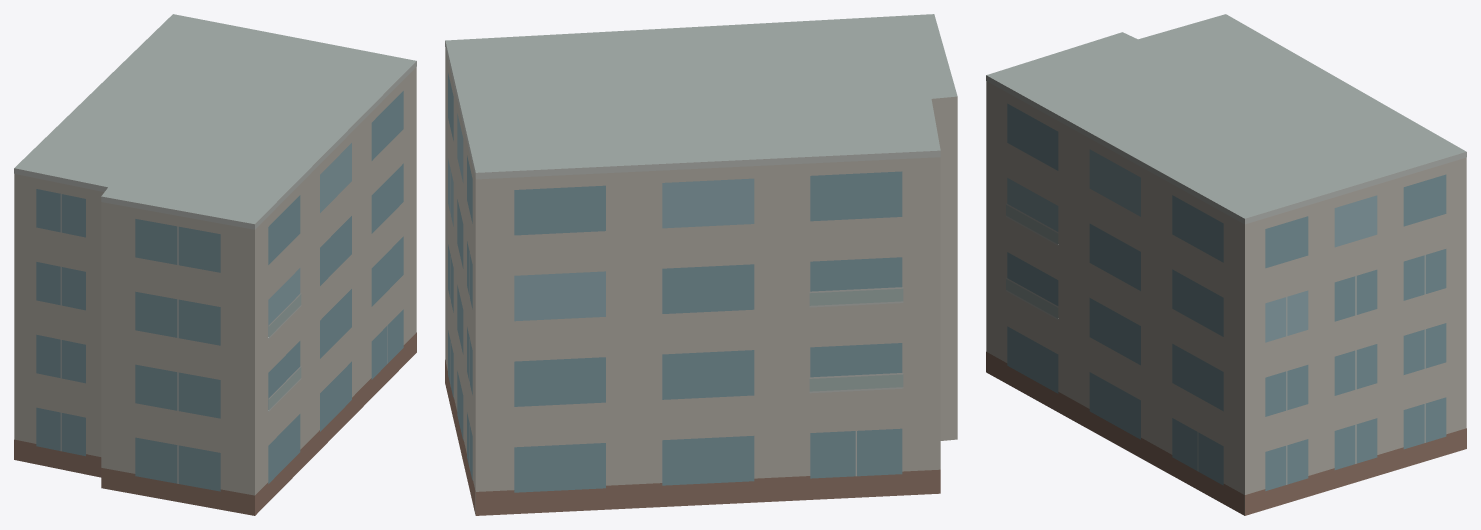
The model's file is survey-upis-32657177.glb.
3 renders of one model, left to right at view 1: azimuth 30°, elevation 25°; view 2: azimuth 150°, elevation 25°; view 3: azimuth 270°, elevation 25°, orthographic. The views are drawn at different scales.
Visible parts, largest first — view 1: survey-upis-32657177.tmp; view 2: survey-upis-32657177.tmp; view 3: survey-upis-32657177.tmp.
Part boxes in pixels (<box>): survey-upis-32657177.tmp: <box>14,14,416,515</box>; survey-upis-32657177.tmp: <box>445,14,957,515</box>; survey-upis-32657177.tmp: <box>986,14,1466,515</box>.
Bounding box in the file's own units: 18.86 × 12.75 × 18.7.
